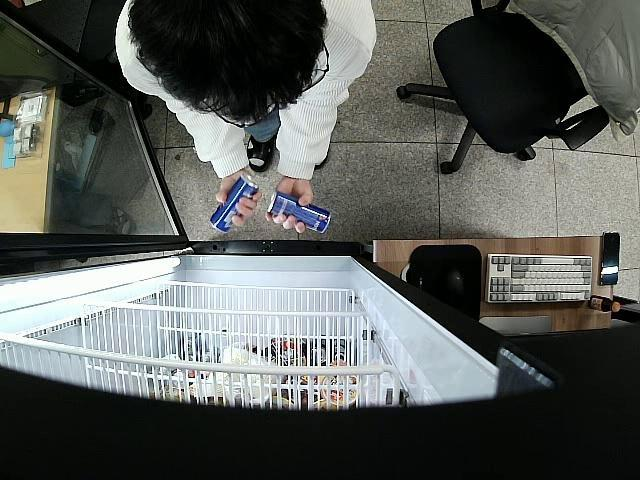16_hot6: (209, 174, 260, 236), (266, 192, 332, 232)
